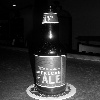beer: (34, 4, 71, 99)
